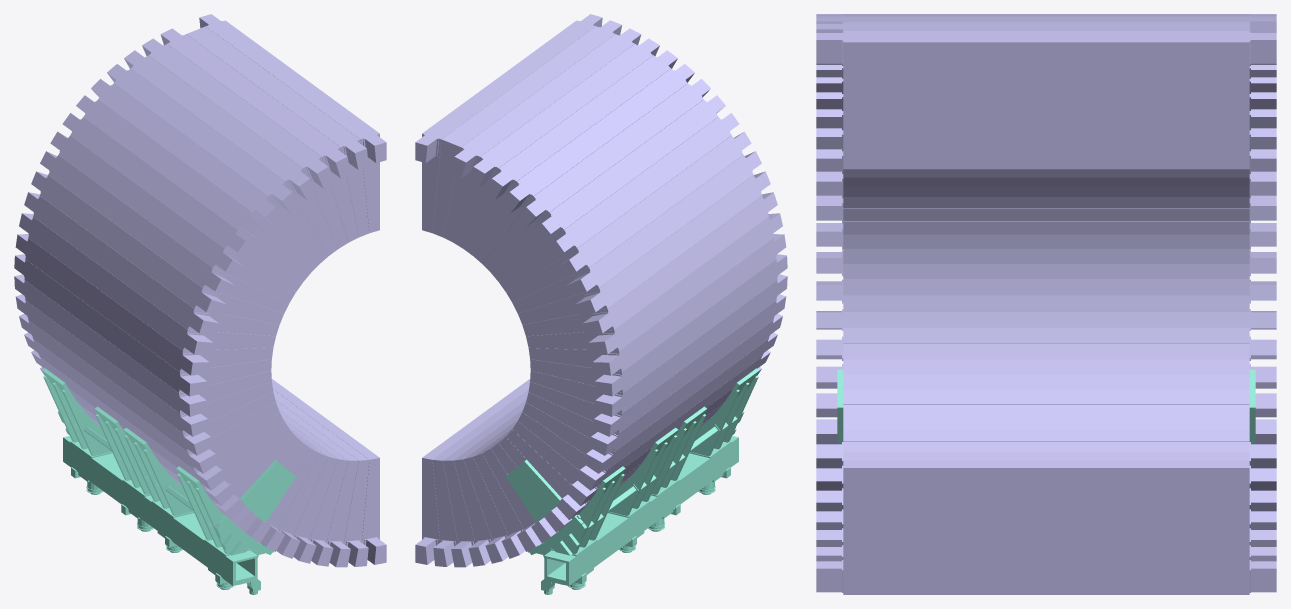
The model's file is Tile-Barrel-cut2.glb.
3 views of the same model, side by side, from view 1: azimuth 30°, elevation 25°; view 2: azimuth 150°, elevation 25°; view 3: azimuth 270°, elevation 25° (orthographic). The views are drawn at different scales.
Parts seen in each view (by area): view 1: null; view 2: null; view 3: null.
Part boxes in pixels (<box>): null: <box>14,14,386,594</box>; null: <box>415,14,787,594</box>; null: <box>816,14,1276,594</box>.
Size of the model in its own units: 4.23 by 8.73 by 6.39.
